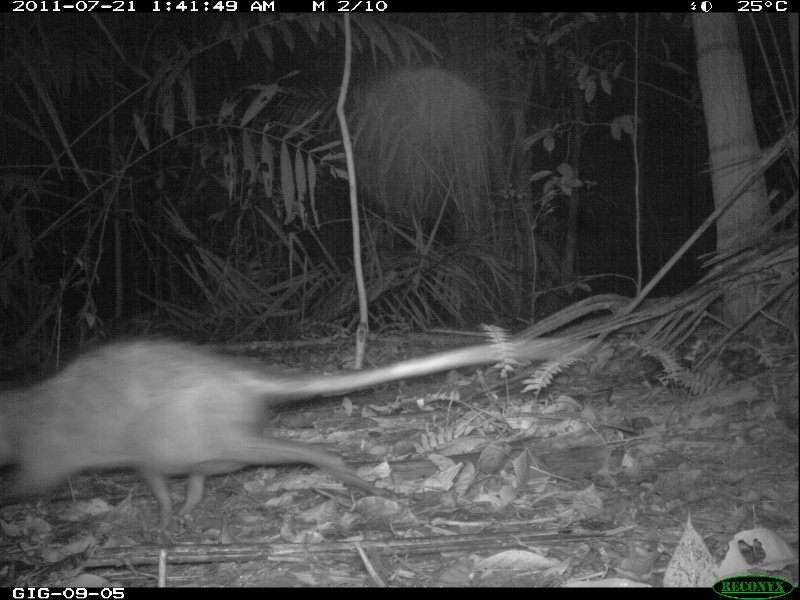opossum: (1, 327, 574, 523)
